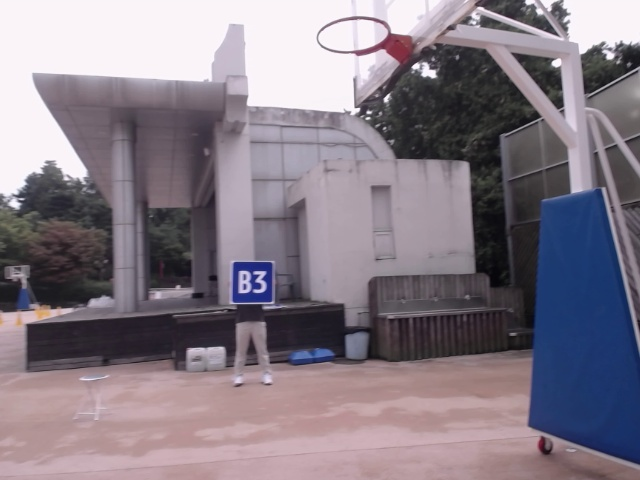delivery_b3: (230, 261, 275, 303)
